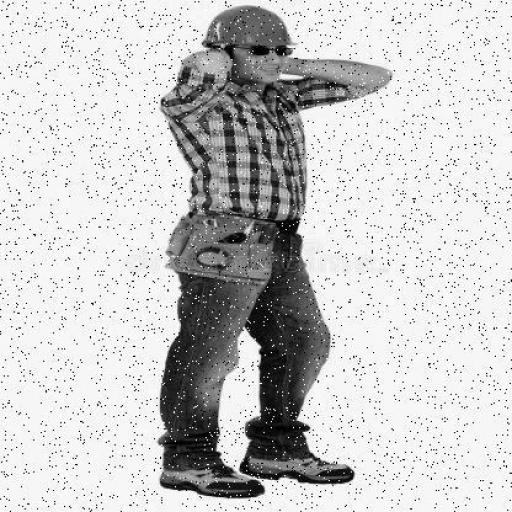person: (128, 4, 401, 503)
safety_shoe: (152, 456, 264, 503), (241, 450, 356, 487)
